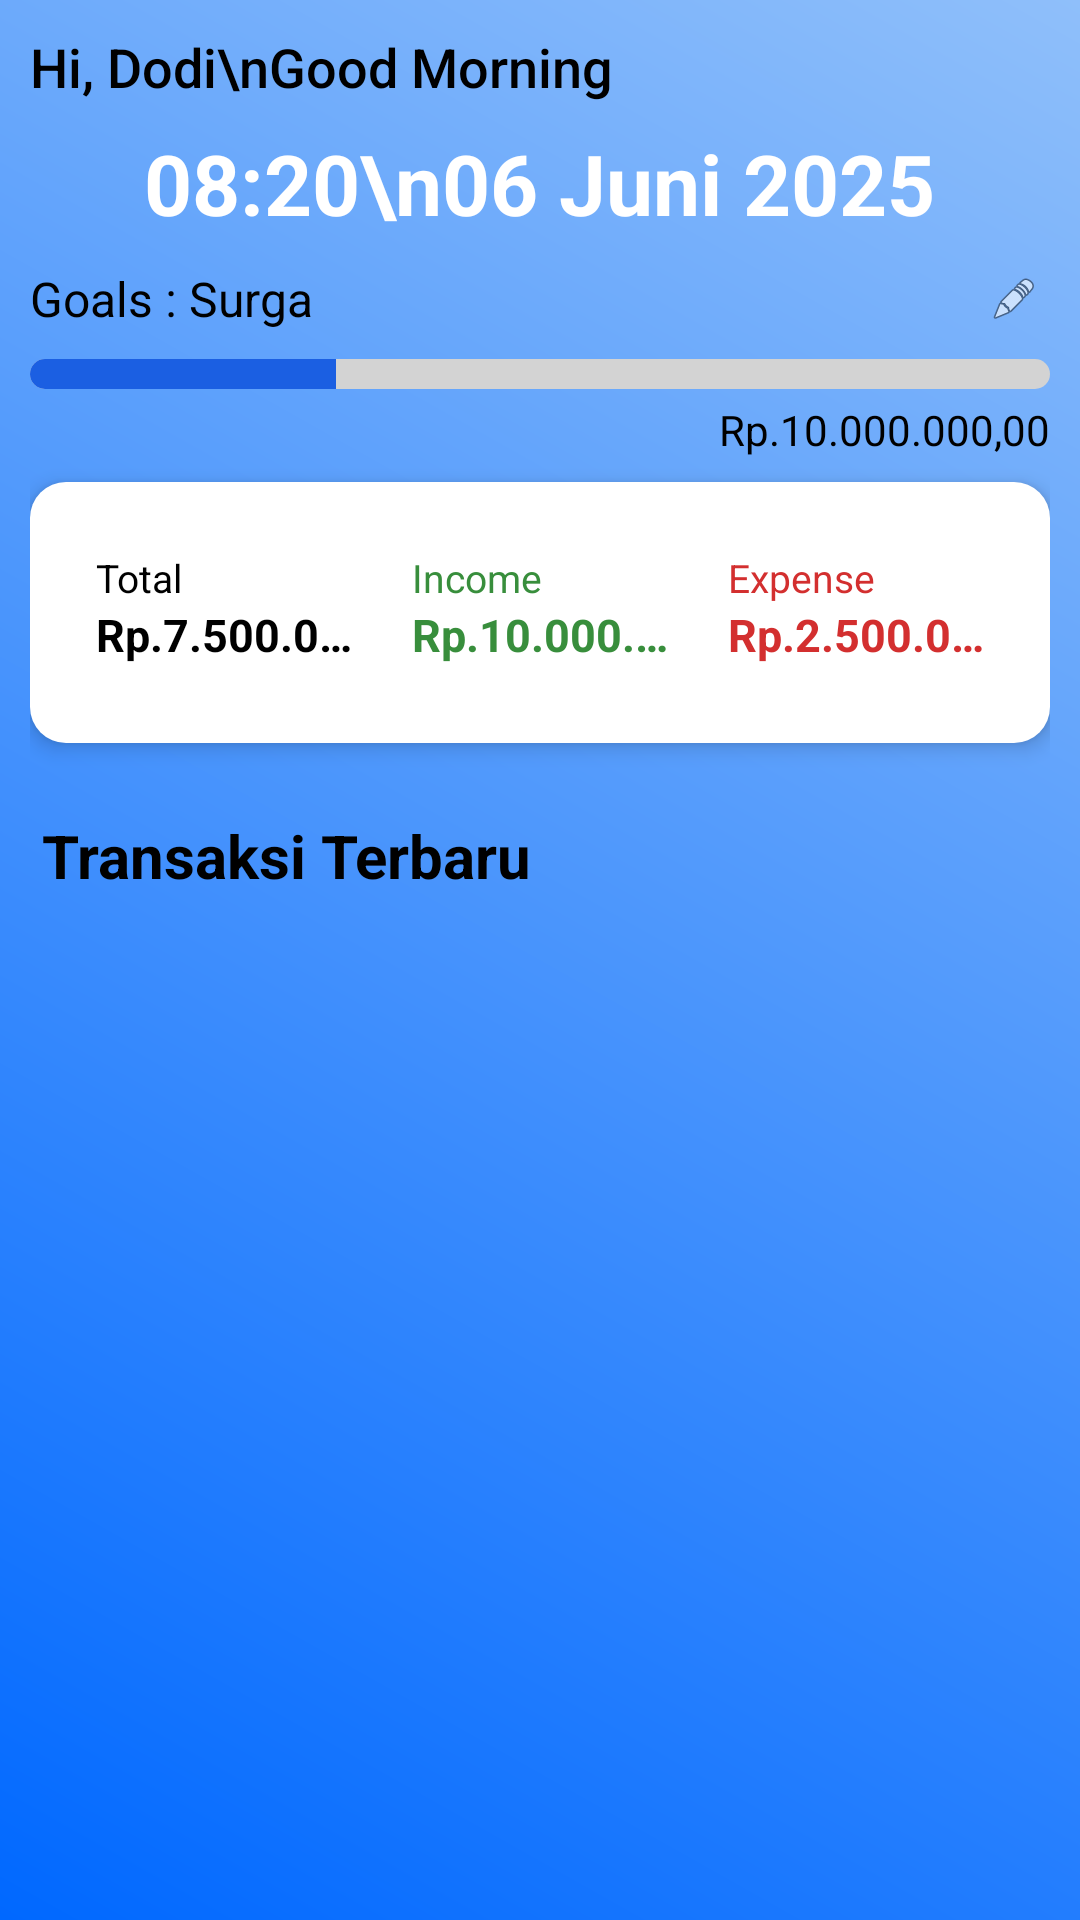

Icons on this 1080px×1920px Android screen, each with the point to tap as (x,y):
Edit Goal: (1013,298)
